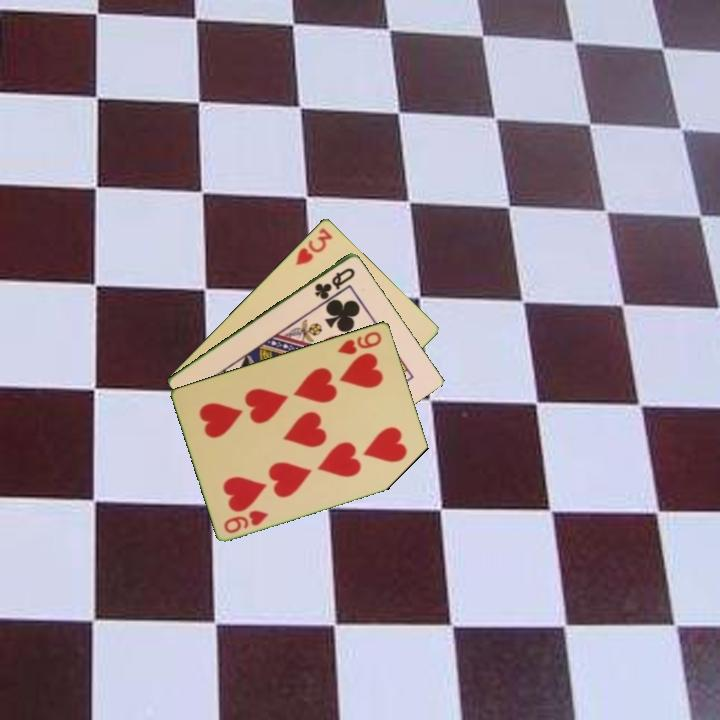3h: (292, 224, 336, 268)
9h: (220, 506, 272, 536), (334, 328, 385, 357)
Qc: (311, 264, 358, 302)
